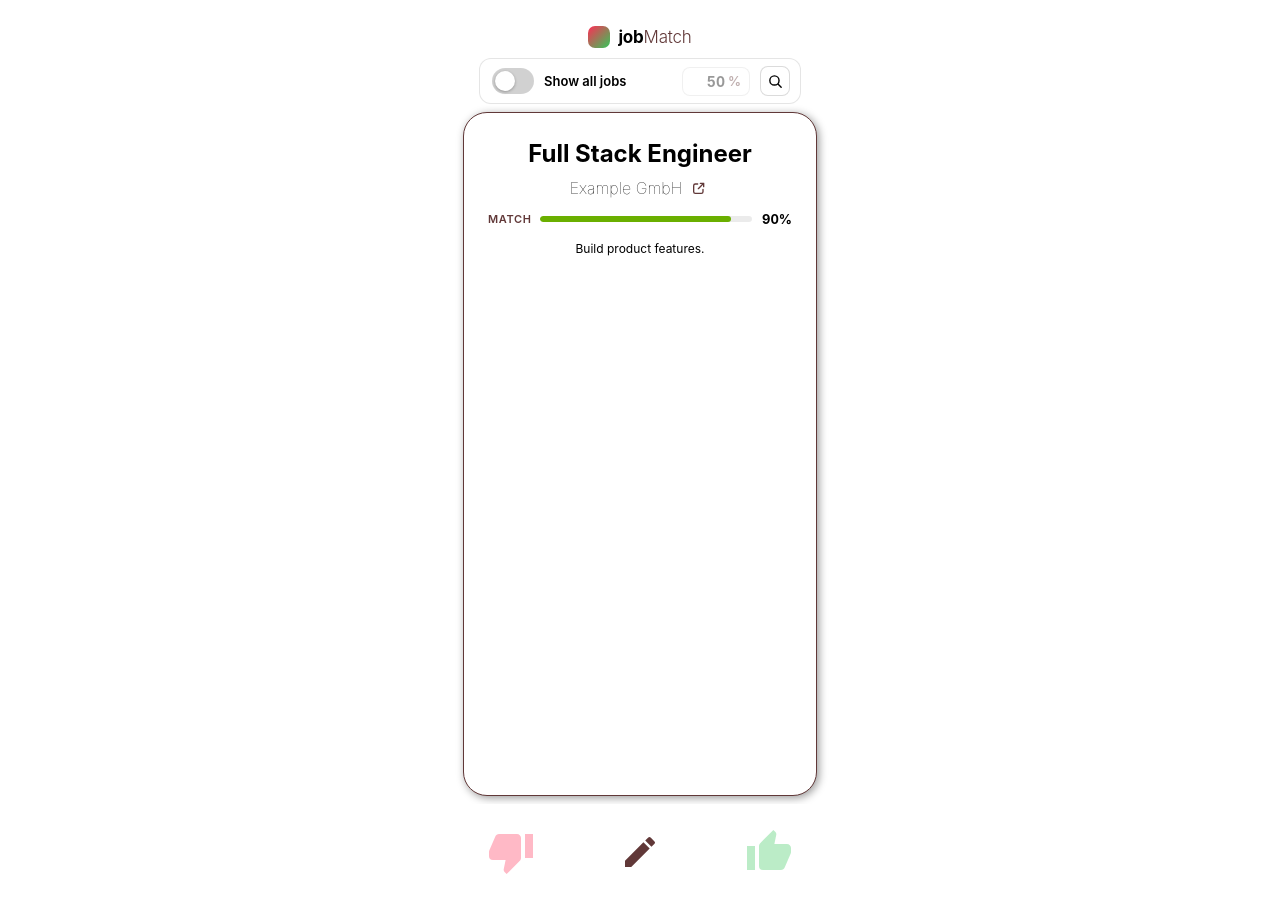
Test case: MatchPage › opens the Application Editor overlay for the top card when the pencil button is clicked
Expected: the element that starts with "Full Stack Engineer" is shown, [463,112,817,899]
Step 1. Click the button with class "like-container__button--edit" → (640, 852), box [616,828,664,876]
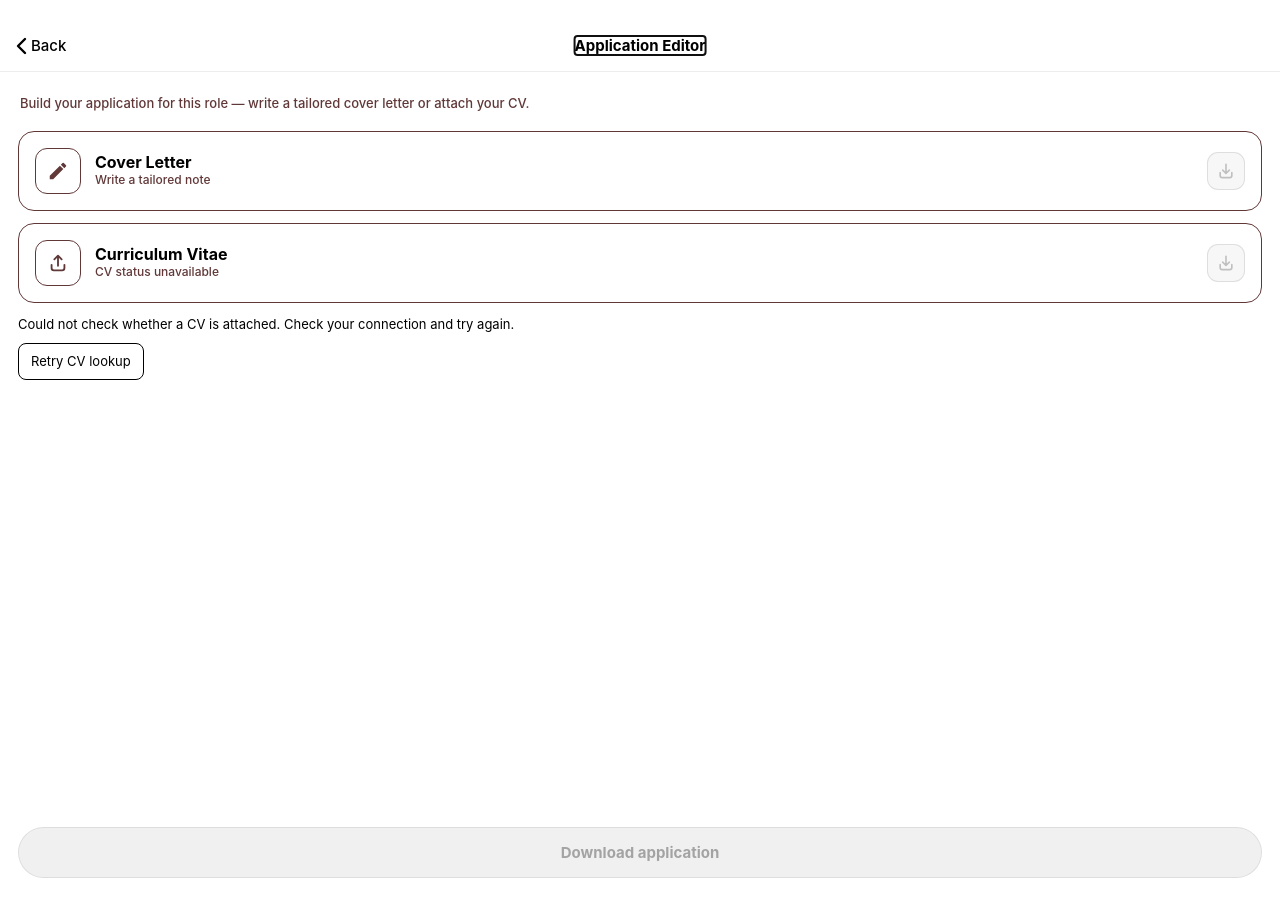
Now the heading with class "app-editor-header__title" reads "Application Editor", box [575,36,706,54]
